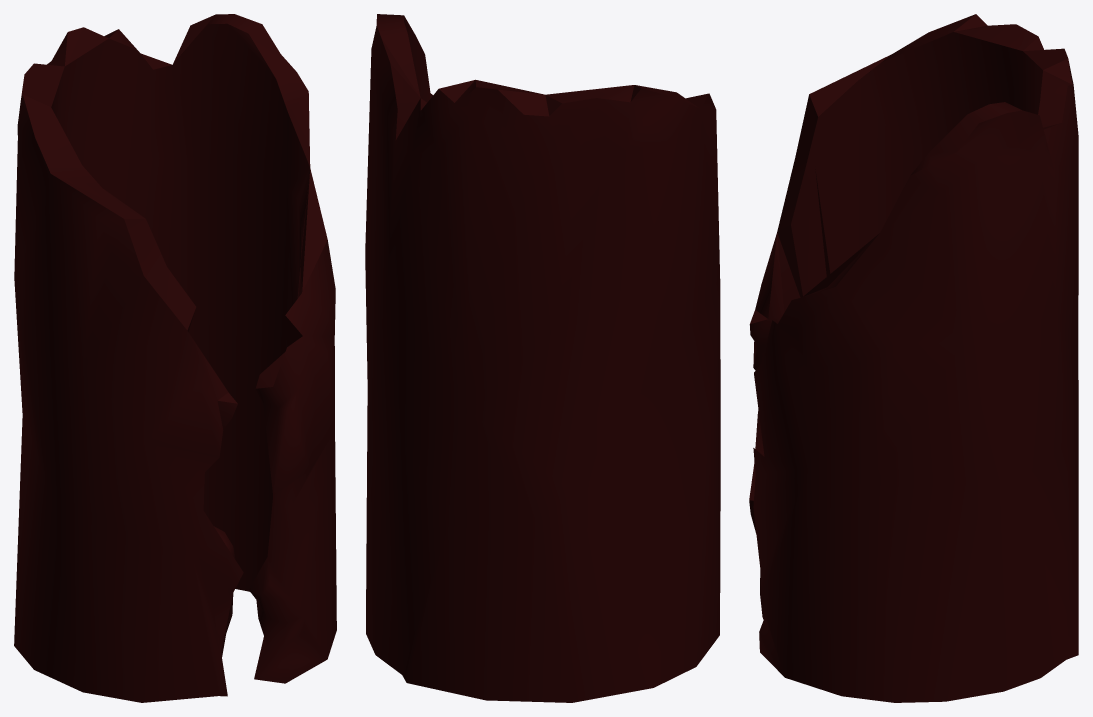
Rendered from UCX_Big_Castle_Tower_ALT.fbx.
3 renders of one model, left to right at view 1: azimuth 30°, elevation 25°; view 2: azimuth 150°, elevation 25°; view 3: azimuth 270°, elevation 25°, orthographic. The views are drawn at different scales.
Parts seen in each view (by area): view 1: UCX_Big_Castle_Tower_ALT; view 2: UCX_Big_Castle_Tower_ALT; view 3: UCX_Big_Castle_Tower_ALT.
Boxes of the visible parts, left/top/right/bottom form: UCX_Big_Castle_Tower_ALT: left=14, top=14, right=336, bottom=702; UCX_Big_Castle_Tower_ALT: left=365, top=14, right=720, bottom=702; UCX_Big_Castle_Tower_ALT: left=749, top=14, right=1078, bottom=702.
Size of the model in its own units: 1098 by 2112 by 1093.
